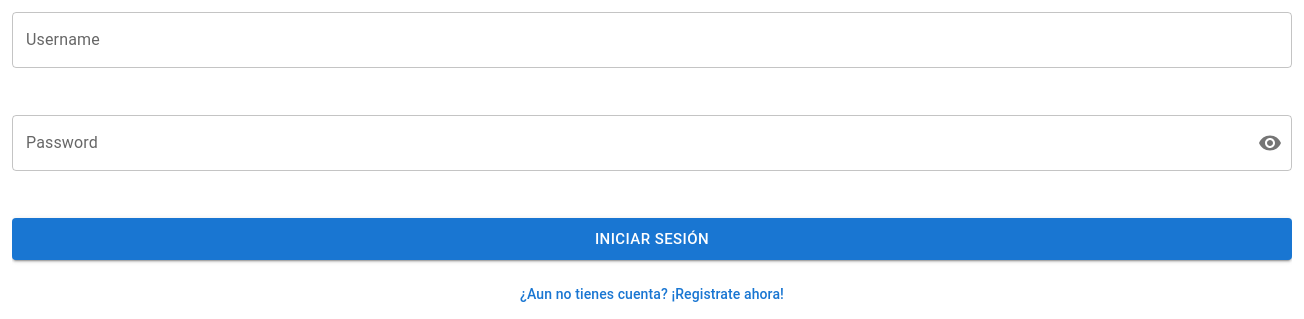
Scenario: Given a LoginForm component › When invoked and user don't enters username, name, and password › Then it should show three diferenten helper text for each field
Click the button "iniciar sesión": (652, 239) [12,218,1292,260]
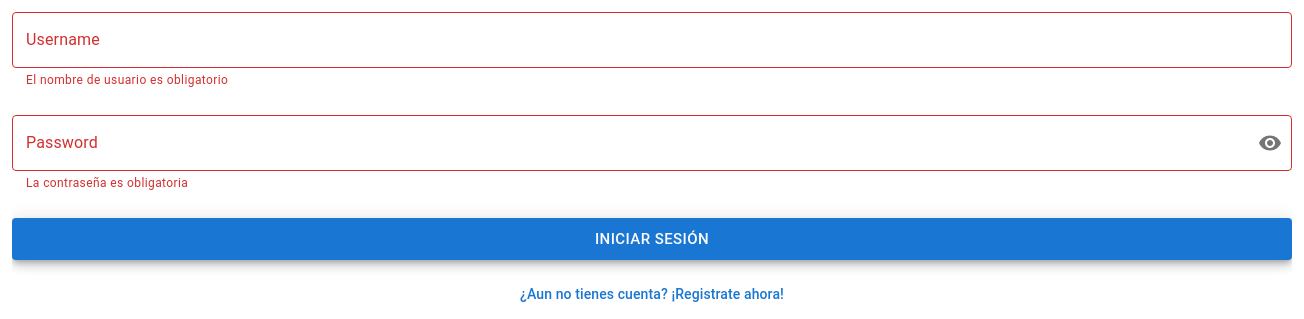
Now the text "El nombre de usuario es obligatorio" is shown, box [26,73,228,87]
Now the text "La contraseña es obligatoria" is shown, box [26,176,188,190]
